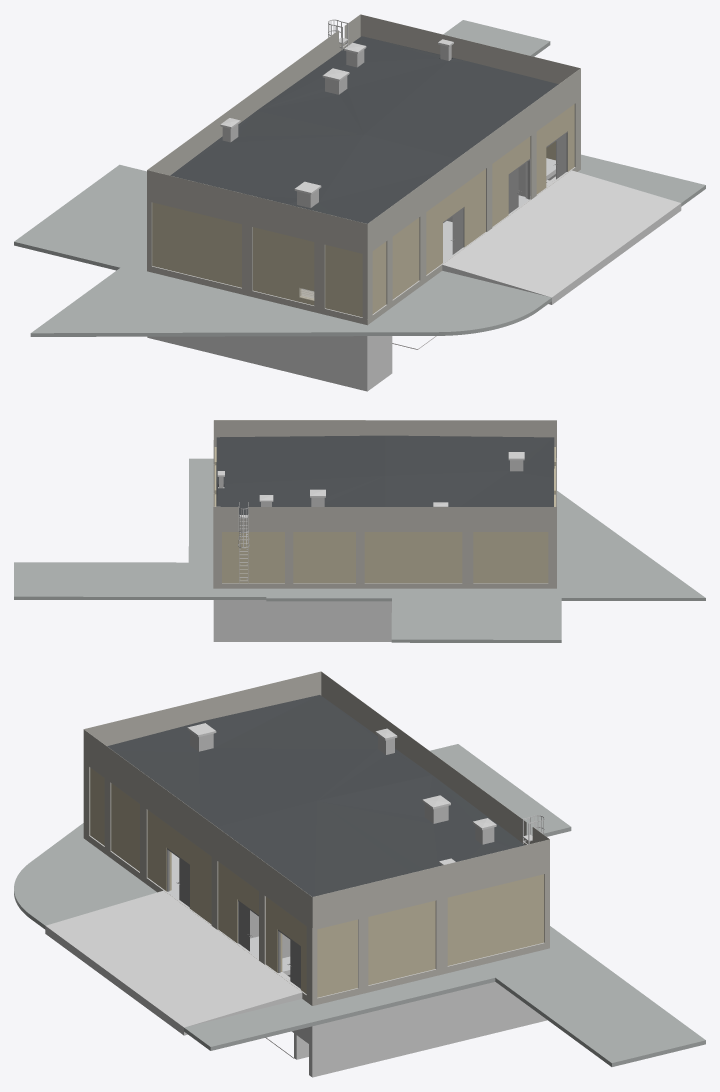
The picture shows the model from 3 angles, top to bottom: view 1: azimuth 30°, elevation 25°; view 2: azimuth 150°, elevation 25°; view 3: azimuth 270°, elevation 25°; orthographic projection. The views are drawn at different scales.
Visible parts, largest first — view 1: 0wGt0CgJf2Vucp9Iy$0Ch9, 1iRJ$uiVTA58xUQQo3S7s$, 1q5hBbk$n2KhP8SkLhUTul, 1PlUeE3Nf40P1WqiX2$tVz, 3zxVB4GIXDXe_Z3DLNVMyP, 3iB_Qiu7T0Nxthqmpgilmk, 3ITIWJgOT2kOFgpBaJBBxZ, 1PlUeE3Nf40P1WqiX2$tU6, 1PlUeE3Nf40P1WqiX2$tKY, 3ITIWJgOT2kOFgpBaJBBh5, 3ITIWJgOT2kOFgpBaJBBOS, 0wGt0CgJf2Vucp9Iy$0Chx (+11 smaller); view 2: 1iRJ$uiVTA58xUQQo3S7s$, 0wGt0CgJf2Vucp9Iy$0Ch9, 1PlUeE3Nf40P1WqiX2$tKY, 3iB_Qiu7T0Nxthqmpgilg2, 3zxVB4GIXDXe_Z3DLNVMyP, 0Xn1_$Bw12UAttysVt8ShS, 0wGt0CgJf2Vucp9Iy$0Chr, 3x448Yy7L4rQNFrw77IynU, 0Xn1_$Bw12UAttysVt8SmL, 3zxVB4GIXDXe_Z3DLNVLEC, 3XR3d_zbv0Mx9_uj3H2uft, 2RybY7jhD8wQWwO2ZhlAa5 (+5 smaller); view 3: 0wGt0CgJf2Vucp9Iy$0Ch9, 1iRJ$uiVTA58xUQQo3S7s$, 1q5hBbk$n2KhP8SkLhUTul, 3iB_Qiu7T0Nxthqmpgilbp, 1PlUeE3Nf40P1WqiX2$tU6, 3zxVB4GIXDXe_Z3DLNVMyP, 0wGt0CgJf2Vucp9Iy$0CeN, 1PlUeE3Nf40P1WqiX2$tVz, 1PlUeE3Nf40P1WqiX2$tKY, 3ITIWJgOT2kOFgpBaJBAq5, 3ITIWJgOT2kOFgpBaJBBOS, 3ITIWJgOT2kOFgpBaJBB7H (+12 smaller).
Part boxes in pixels (bbox=[...]): 0wGt0CgJf2Vucp9Iy$0Ch9: bbox=[170, 36, 558, 223]; 1iRJ$uiVTA58xUQQo3S7s$: bbox=[14, 20, 705, 336]; 1q5hBbk$n2KhP8SkLhUTul: bbox=[442, 170, 681, 304]; 1PlUeE3Nf40P1WqiX2$tVz: bbox=[147, 170, 367, 253]; 3zxVB4GIXDXe_Z3DLNVMyP: bbox=[367, 68, 580, 254]; 3iB_Qiu7T0Nxthqmpgilmk: bbox=[147, 336, 370, 391]; 3ITIWJgOT2kOFgpBaJBBxZ: bbox=[152, 202, 241, 287]; 1PlUeE3Nf40P1WqiX2$tU6: bbox=[360, 14, 580, 83]; 1PlUeE3Nf40P1WqiX2$tKY: bbox=[147, 14, 360, 175]; 3ITIWJgOT2kOFgpBaJBBh5: bbox=[253, 227, 314, 305]; 3ITIWJgOT2kOFgpBaJBBOS: bbox=[426, 169, 485, 274]; 0wGt0CgJf2Vucp9Iy$0Chx: bbox=[325, 245, 362, 317]; 1iRJ$uiVTA58xUQQo3S7s$: bbox=[14, 458, 705, 642]; 0wGt0CgJf2Vucp9Iy$0Ch9: bbox=[216, 435, 554, 515]; 1PlUeE3Nf40P1WqiX2$tKY: bbox=[213, 506, 556, 531]; 3iB_Qiu7T0Nxthqmpgilg2: bbox=[213, 600, 391, 641]; 3zxVB4GIXDXe_Z3DLNVMyP: bbox=[214, 420, 556, 445]; 0Xn1_$Bw12UAttysVt8ShS: bbox=[364, 532, 462, 583]; 0wGt0CgJf2Vucp9Iy$0Chr: bbox=[473, 532, 548, 583]; 3x448Yy7L4rQNFrw77IynU: bbox=[293, 532, 355, 583]; 0Xn1_$Bw12UAttysVt8SmL: bbox=[222, 532, 284, 583]; 3zxVB4GIXDXe_Z3DLNVLEC: bbox=[213, 583, 556, 588]; 3XR3d_zbv0Mx9_uj3H2uft: bbox=[462, 532, 473, 583]; 2RybY7jhD8wQWwO2ZhlAa5: bbox=[238, 502, 249, 583]; 0wGt0CgJf2Vucp9Iy$0Ch9: bbox=[107, 695, 524, 896]; 1iRJ$uiVTA58xUQQo3S7s$: bbox=[14, 744, 705, 1066]; 1q5hBbk$n2KhP8SkLhUTul: bbox=[45, 890, 302, 1035]; 3iB_Qiu7T0Nxthqmpgilbp: bbox=[309, 982, 543, 1077]; 1PlUeE3Nf40P1WqiX2$tU6: bbox=[312, 839, 549, 930]; 3zxVB4GIXDXe_Z3DLNVMyP: bbox=[83, 729, 312, 929]; 0wGt0CgJf2Vucp9Iy$0CeN: bbox=[447, 874, 544, 965]; 1PlUeE3Nf40P1WqiX2$tVz: bbox=[84, 671, 321, 745]; 1PlUeE3Nf40P1WqiX2$tKY: bbox=[321, 671, 549, 844]; 3ITIWJgOT2kOFgpBaJBAq5: bbox=[368, 900, 435, 985]; 3ITIWJgOT2kOFgpBaJBBOS: bbox=[147, 810, 211, 924]; 3ITIWJgOT2kOFgpBaJBB7H: bbox=[317, 919, 357, 997].
Size of the model in its own units: 47.73 by 11.42 by 38.56.
